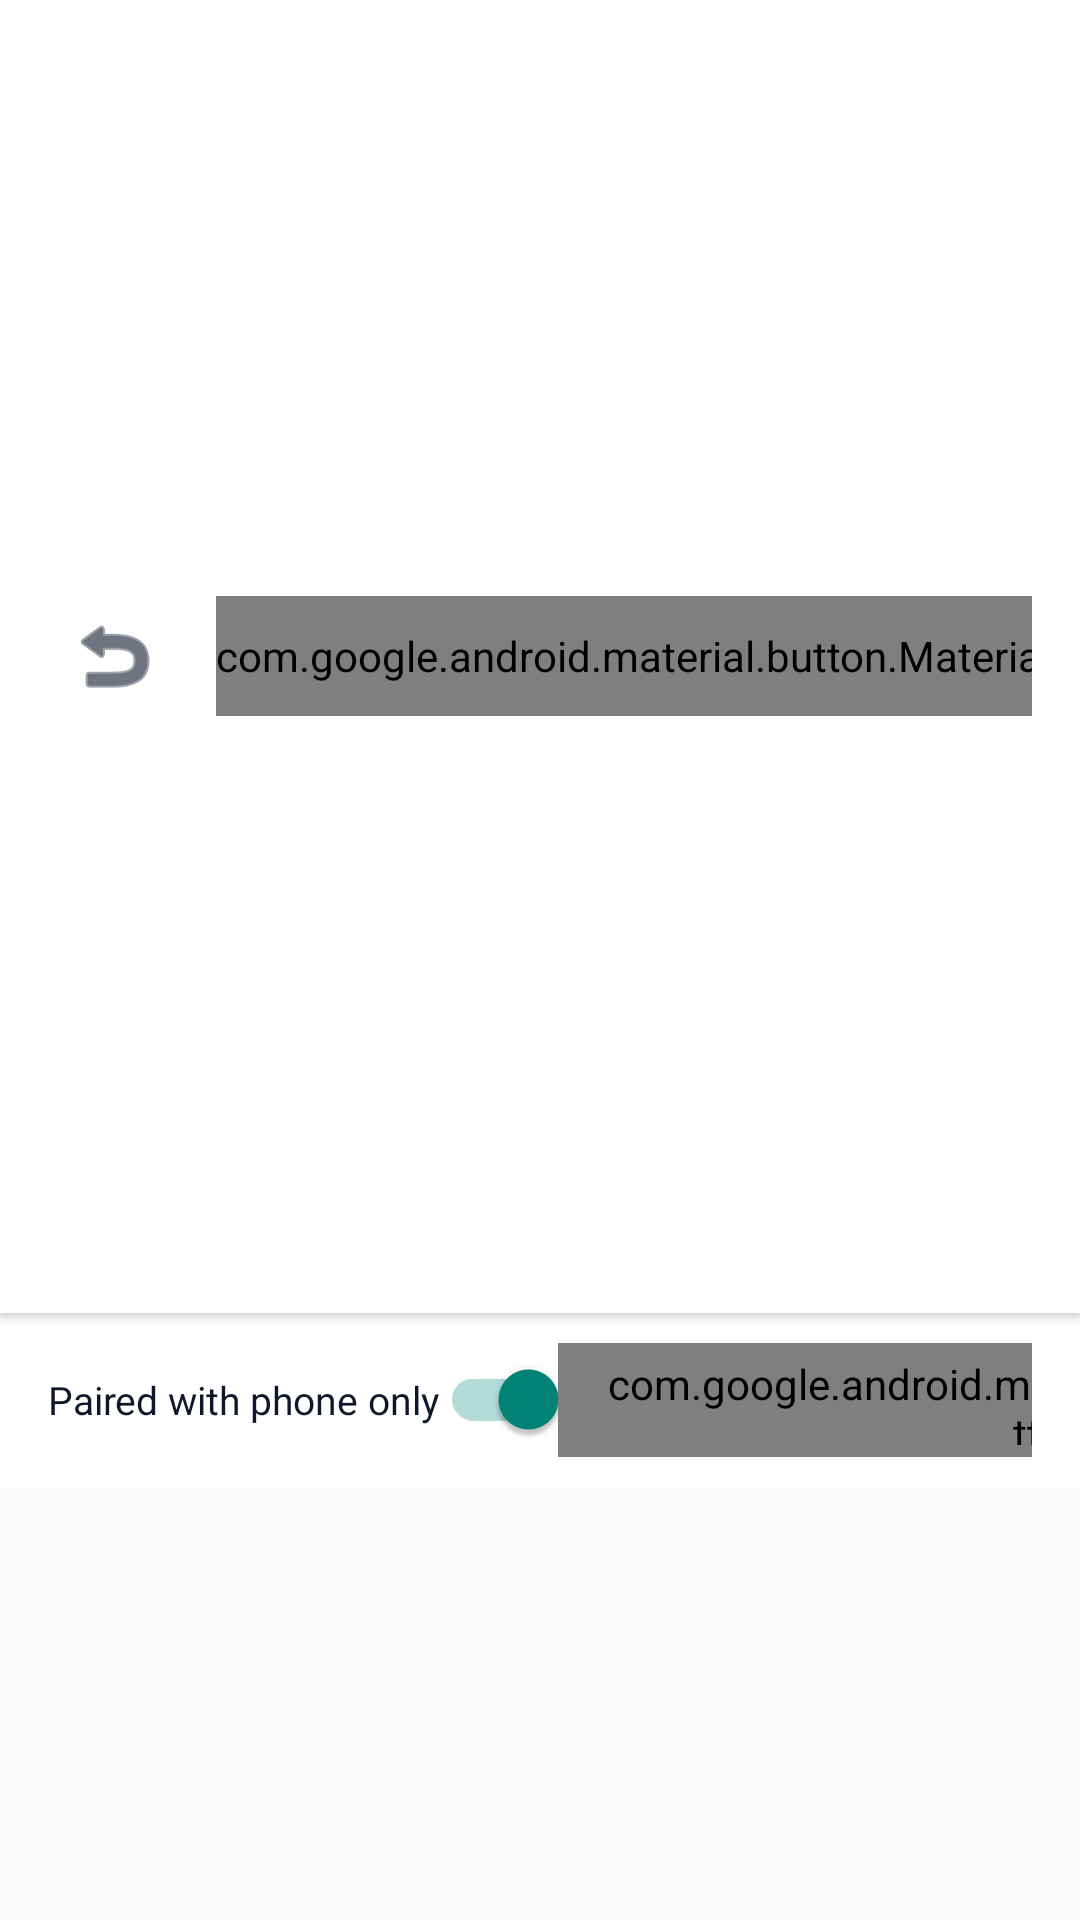

Where to tap for icons on this 1080w x 1920h app screen, as (x=x, y=y):
Back: (x=115, y=656)
